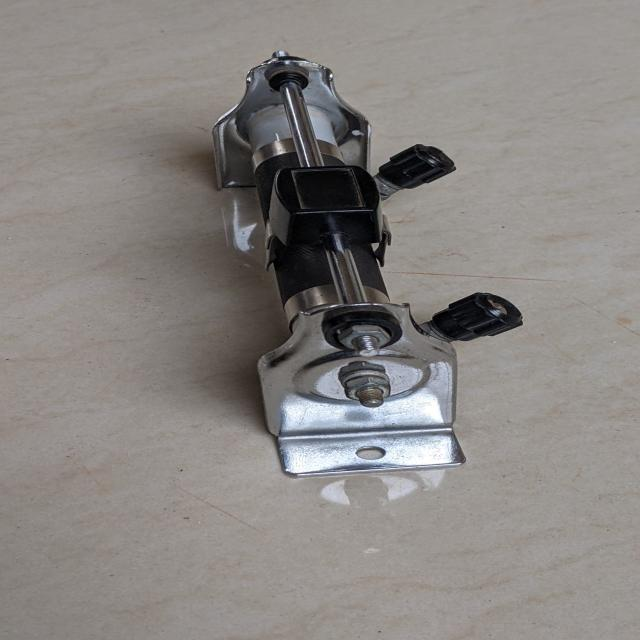Rheostat: (158, 34, 558, 506)
